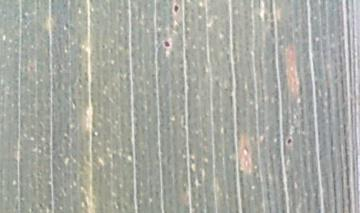tarspot: (171, 2, 180, 14), (161, 39, 171, 49), (286, 137, 293, 146)
